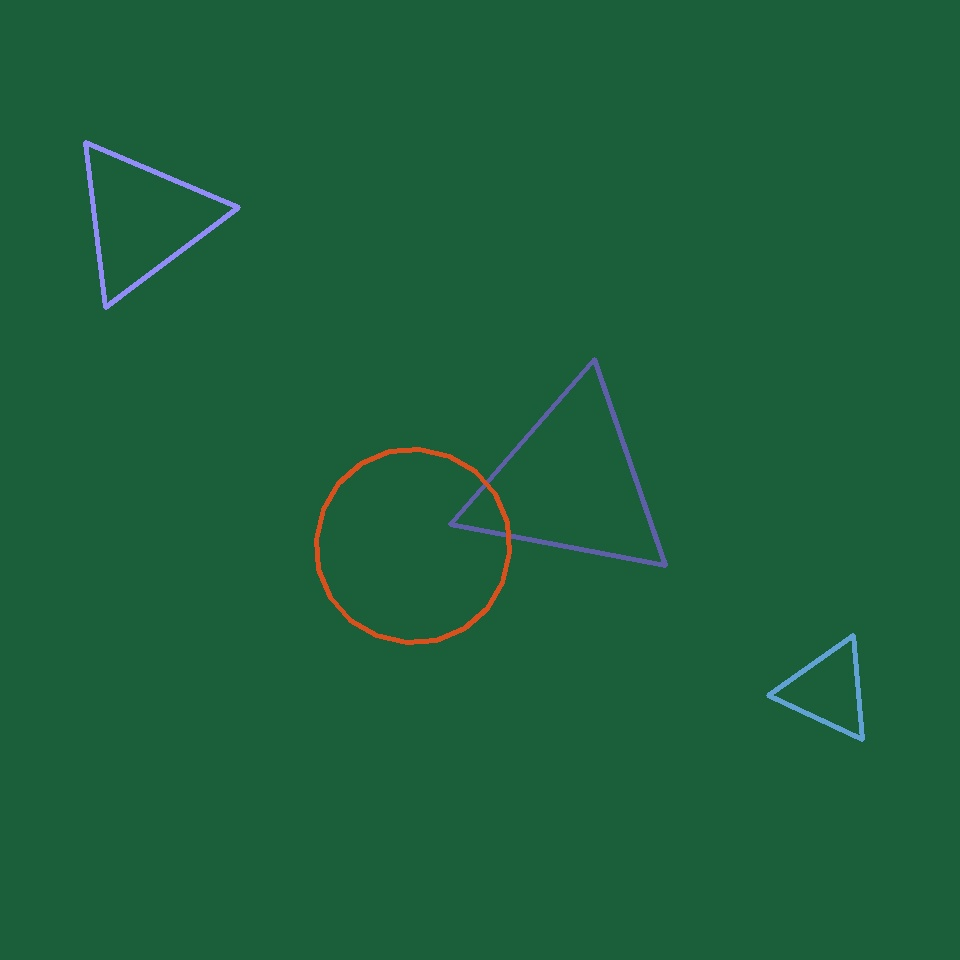circle: (462, 380, 678, 586), (66, 136, 220, 302), (781, 638, 875, 742)
triangle: (316, 450, 510, 642)
